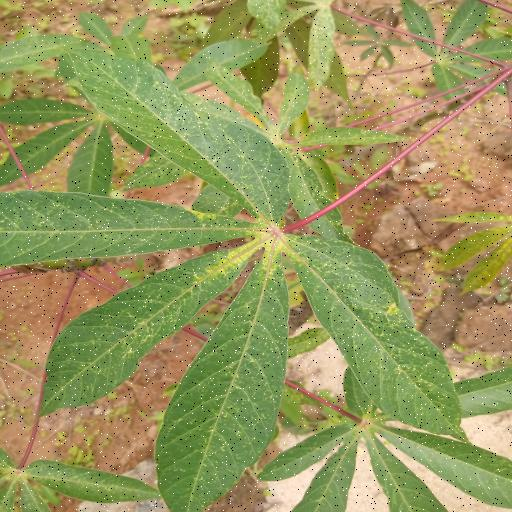Cassava_Mosaic: (3, 43, 470, 512)
